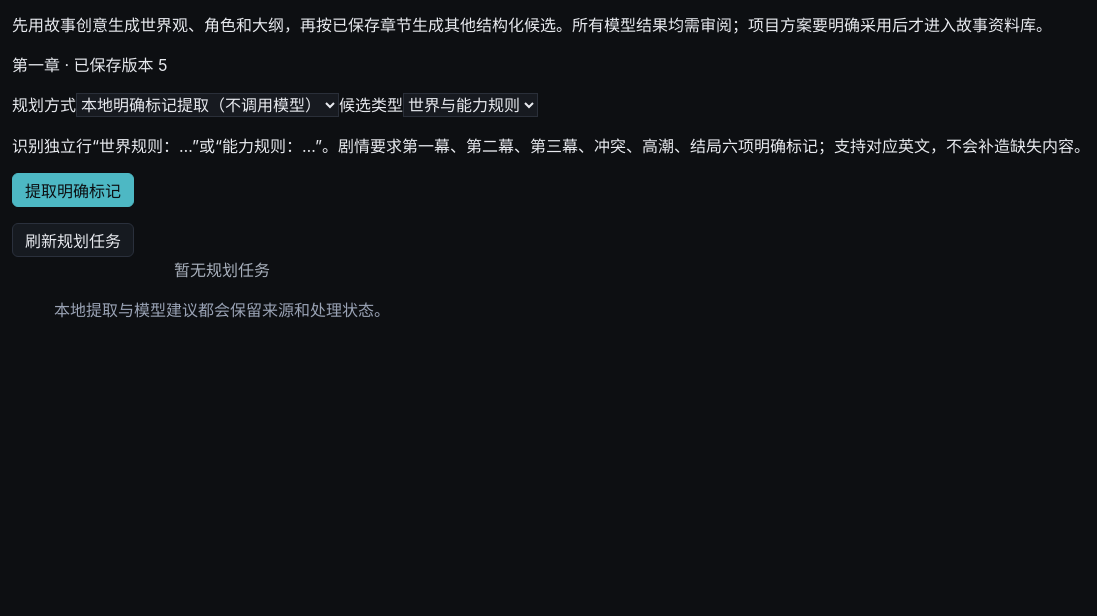
Test case: structured planning review › submits source version with local extraction by default and guards double click
Check: the text "暂无规划任务" is shown, box [174,260,270,280]
Step 1. Click the button "提取明确标记" → (73, 190), box [12,173,134,207]
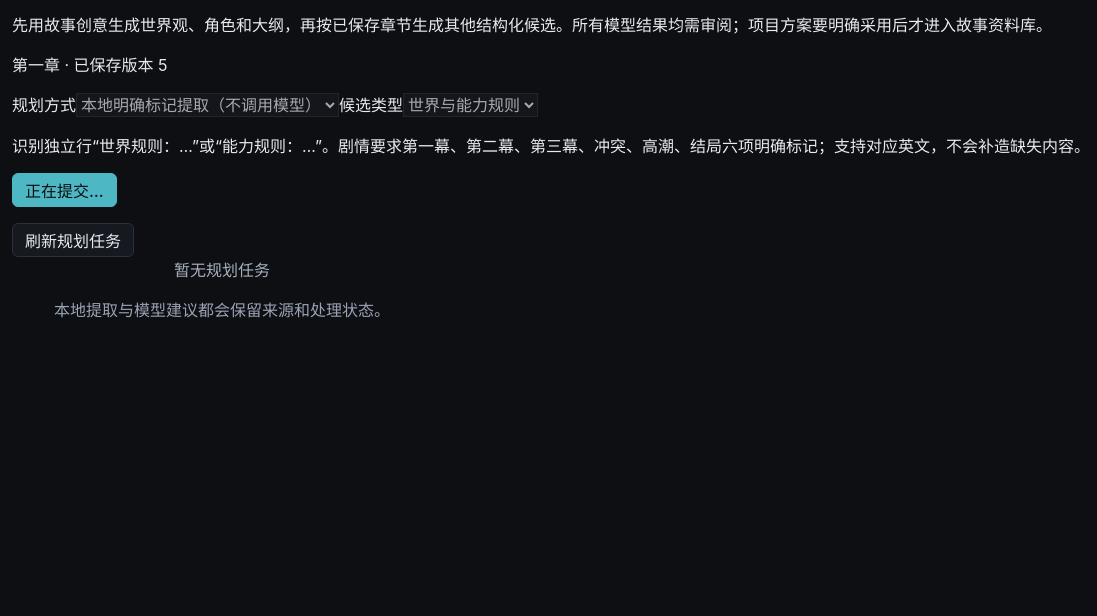
Step 2. Click the button "正在提交…" → (64, 190), box [12,173,117,207]
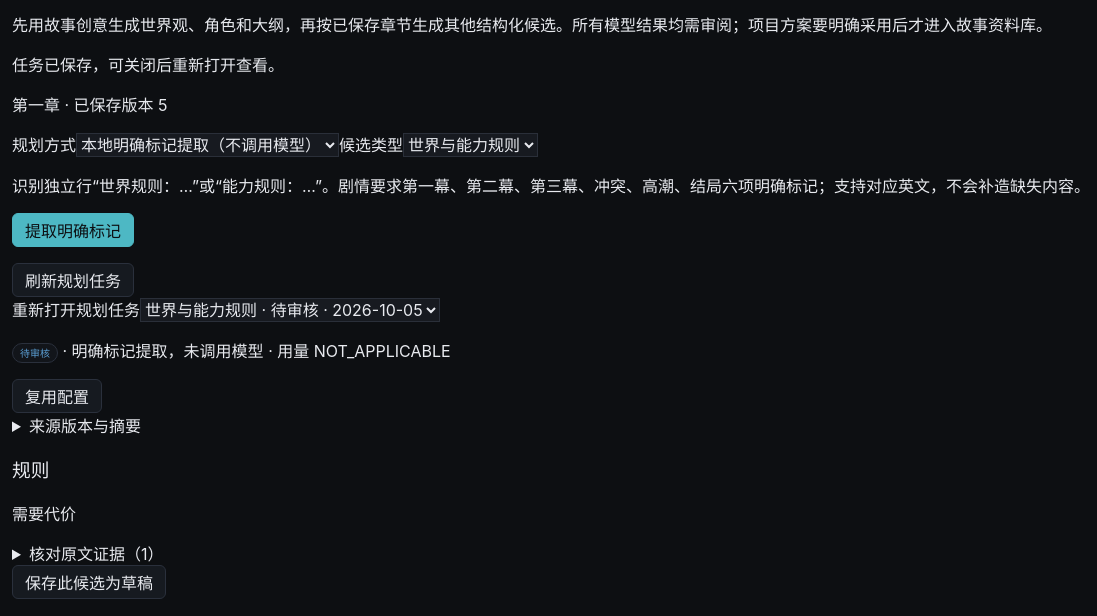
Check: the text "任务已保存，可关闭后重新打开查看。" is shown, box [12,55,284,75]
